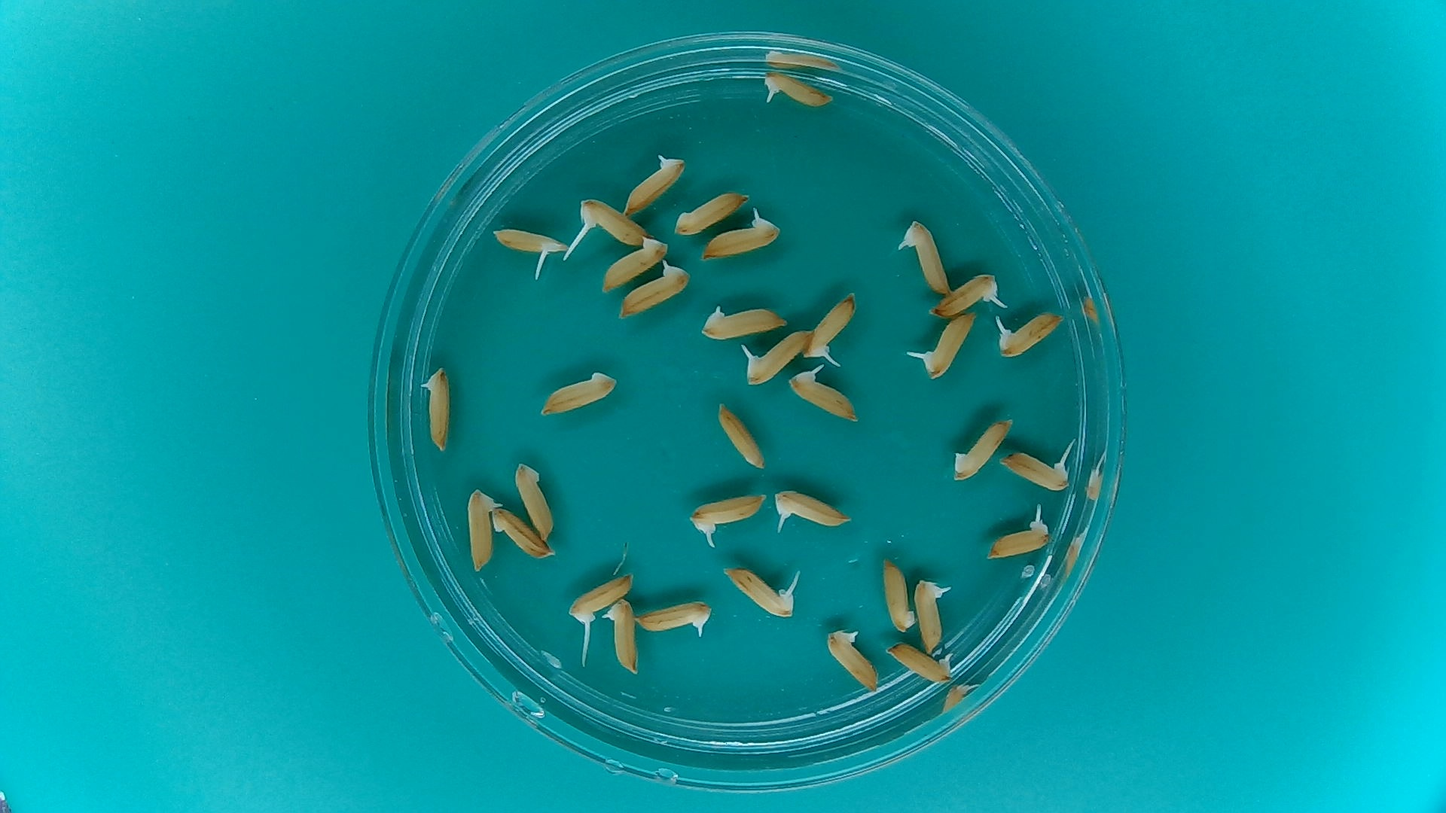no: (601, 239, 673, 291), (544, 368, 617, 419), (673, 188, 746, 236), (715, 404, 767, 470), (491, 507, 555, 560), (825, 626, 875, 693), (955, 421, 1011, 480), (514, 460, 554, 541), (882, 561, 915, 635), (423, 366, 452, 447)
yes: (720, 561, 798, 620), (789, 368, 859, 421), (805, 293, 857, 364), (746, 327, 809, 385), (619, 266, 691, 315), (571, 571, 636, 625), (904, 219, 950, 294), (924, 313, 975, 379), (631, 598, 709, 641), (687, 490, 768, 529), (999, 449, 1069, 493), (996, 310, 1060, 358), (885, 641, 956, 684), (701, 217, 777, 257), (775, 488, 851, 527), (627, 160, 684, 212), (467, 489, 502, 573), (582, 199, 645, 245), (606, 594, 642, 674), (929, 273, 996, 315), (703, 305, 783, 340), (914, 577, 950, 654), (983, 518, 1049, 559), (763, 72, 827, 107), (489, 228, 565, 257)
